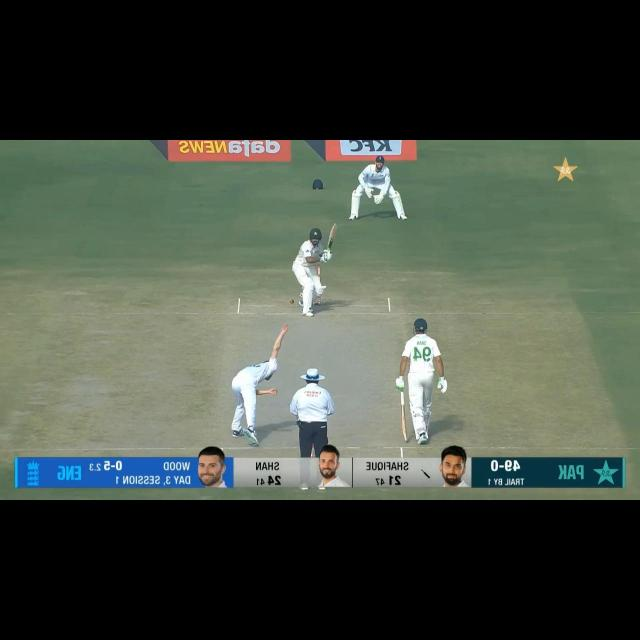bat: (398, 404, 411, 445), (326, 223, 340, 251)
toe: (400, 430, 411, 444), (330, 221, 340, 232)
